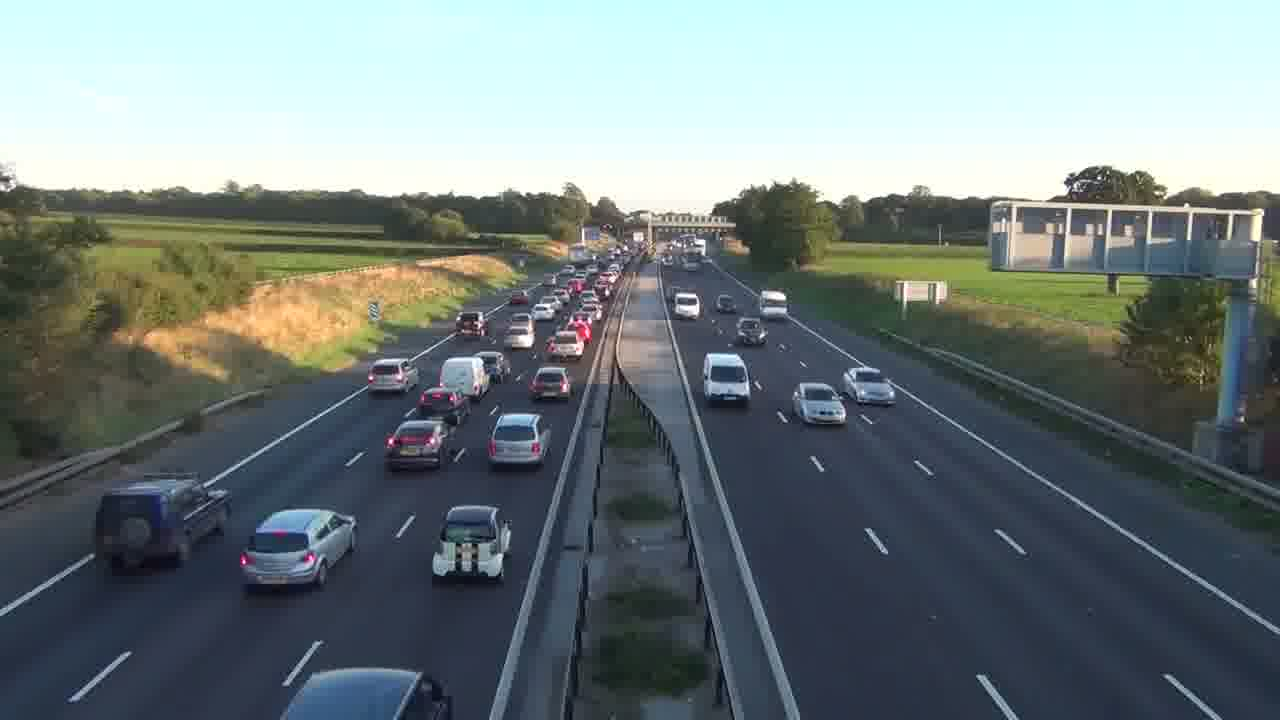car: (239, 507, 358, 592), (281, 666, 454, 719), (432, 503, 513, 583), (384, 418, 448, 472), (791, 381, 847, 426), (414, 386, 470, 427), (842, 367, 897, 407), (529, 366, 574, 401)
truck: (94, 478, 231, 572), (702, 351, 753, 407)
